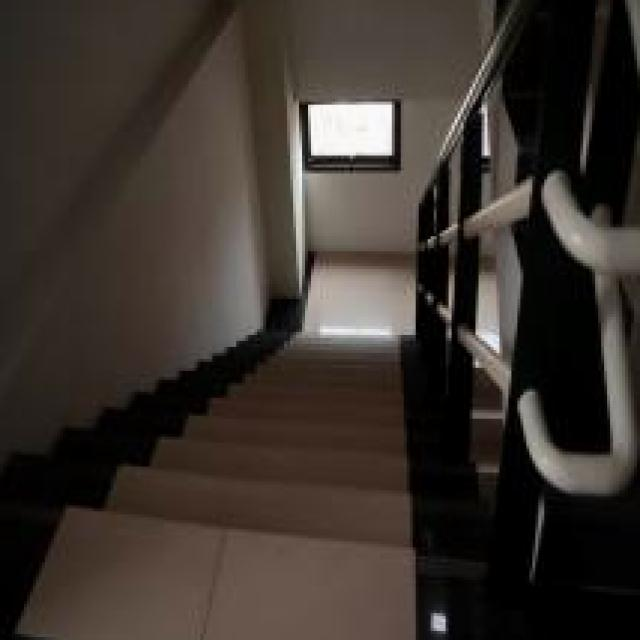downstair: (210, 372, 426, 640)
